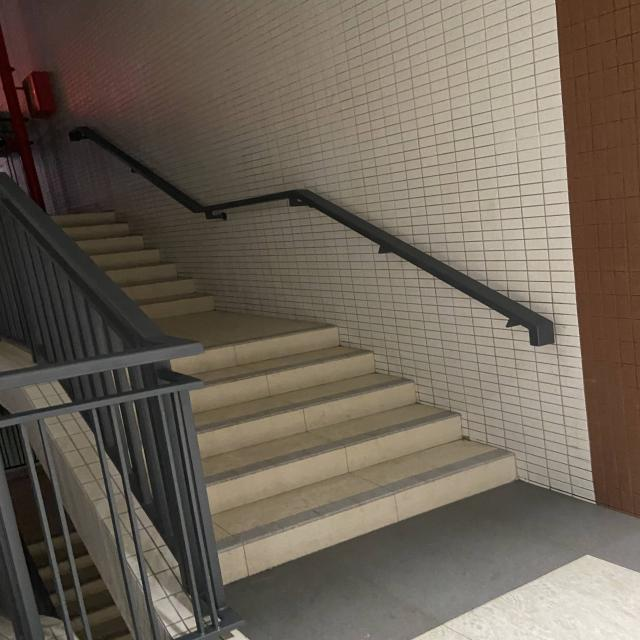Stairs: (98, 332, 560, 582), (44, 196, 236, 329)
